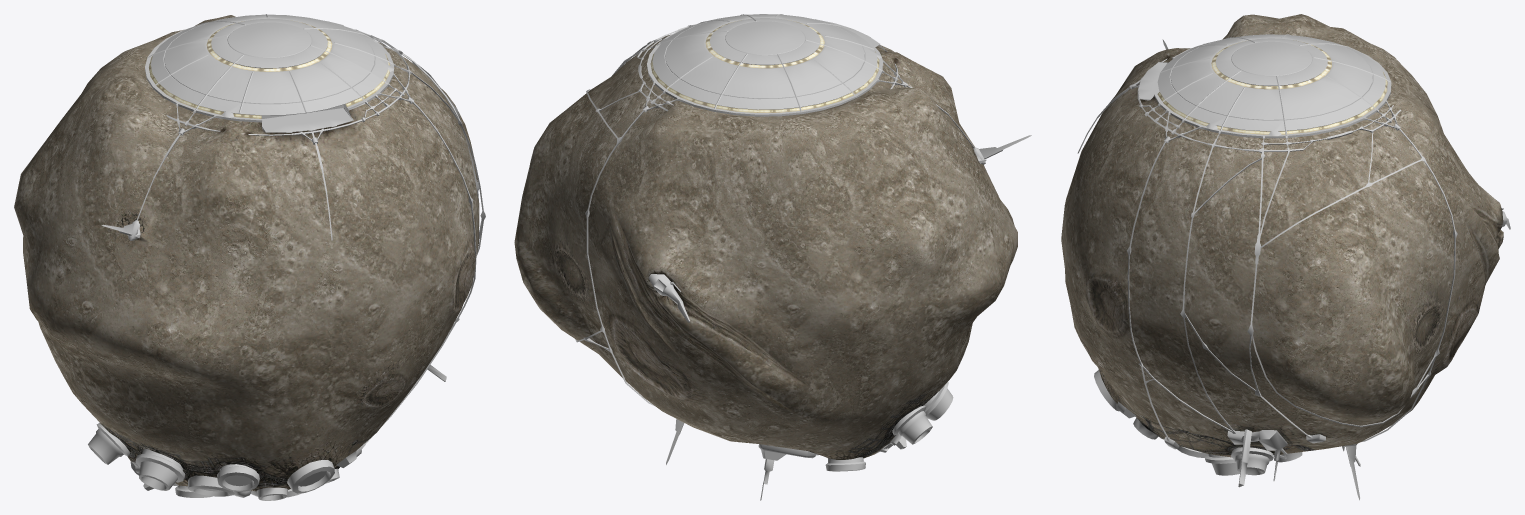
Rendered from spacestation_pirate_asteroid_l0.fbx.
3 views of the same model, side by side, from view 1: azimuth 30°, elevation 25°; view 2: azimuth 150°, elevation 25°; view 3: azimuth 270°, elevation 25° (orthographic). The views are drawn at different scales.
Visible parts, largest first — view 1: mesh_node; view 2: mesh_node; view 3: mesh_node.
Boxes of the visible parts, left/top/right/bottom form: mesh_node: left=14, top=14, right=485, bottom=500; mesh_node: left=514, top=14, right=1031, bottom=500; mesh_node: left=1061, top=14, right=1510, bottom=500.
Size of the model in its own units: 537 by 504 by 477.
